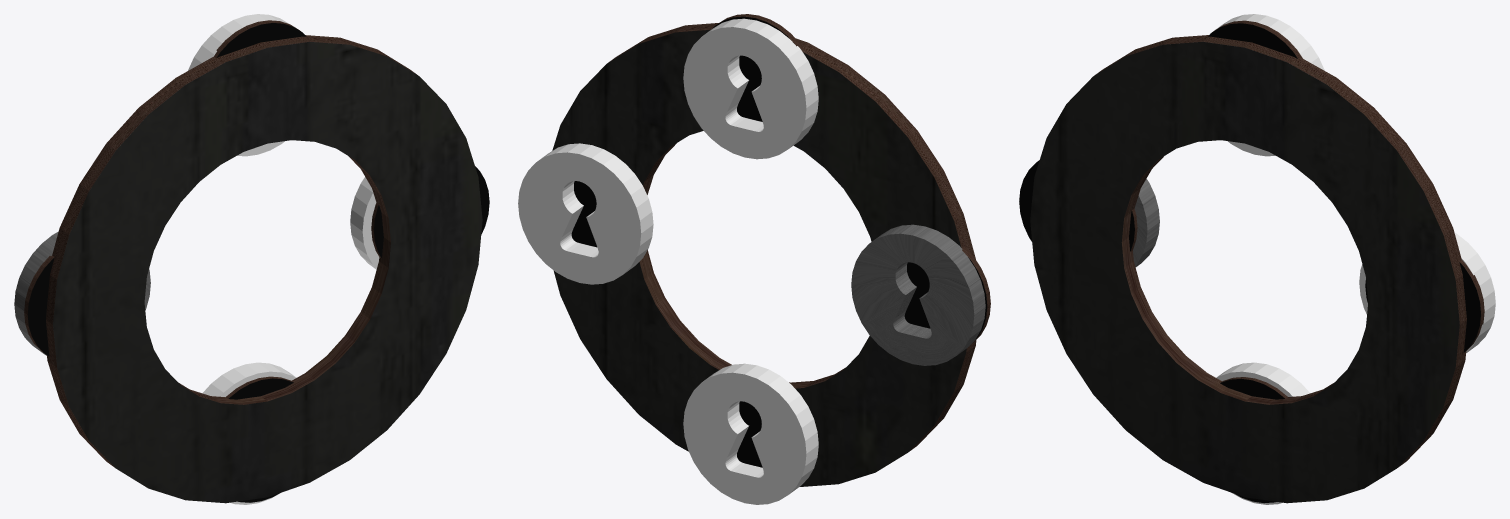
File: keyholes23.fbx
The picture shows the model from 3 angles, left to right: view 1: azimuth 30°, elevation 25°; view 2: azimuth 150°, elevation 25°; view 3: azimuth 330°, elevation 25°; orthographic projection.
Parts seen in each view (by area): view 1: Cylinder.001; view 2: Cylinder.001; view 3: Cylinder.001.
Part boxes in pixels (left/top/right/bottom): Cylinder.001: left=14, top=14, right=489, bottom=504; Cylinder.001: left=518, top=14, right=990, bottom=504; Cylinder.001: left=1019, top=14, right=1495, bottom=504.
Bounding box in the file's own units: 280 × 278 × 23.24.
5 materials, 2 textured.
